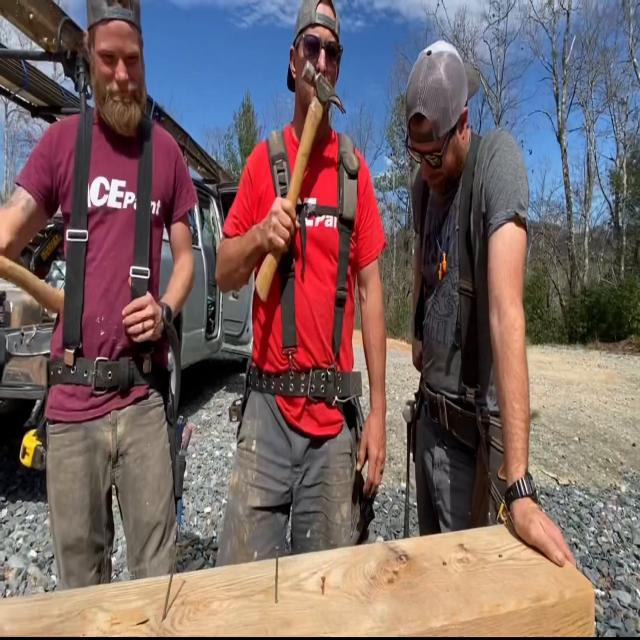hammer: (253, 54, 347, 304), (398, 395, 419, 538)
